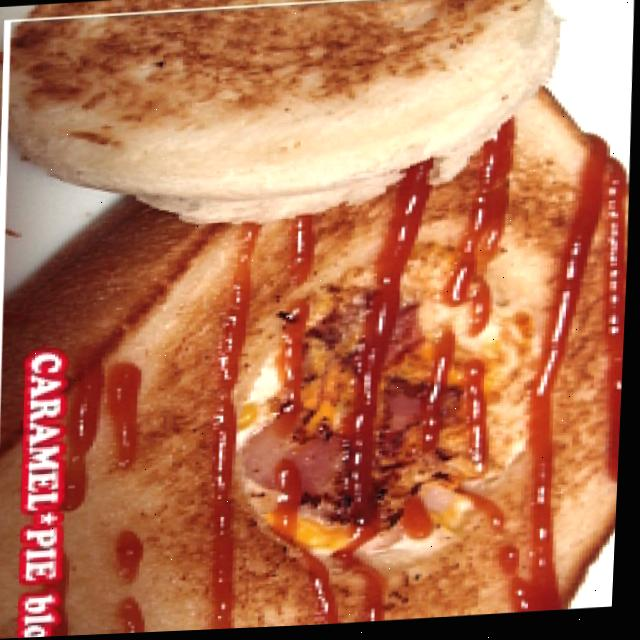面包点心: (0, 56, 637, 640)
